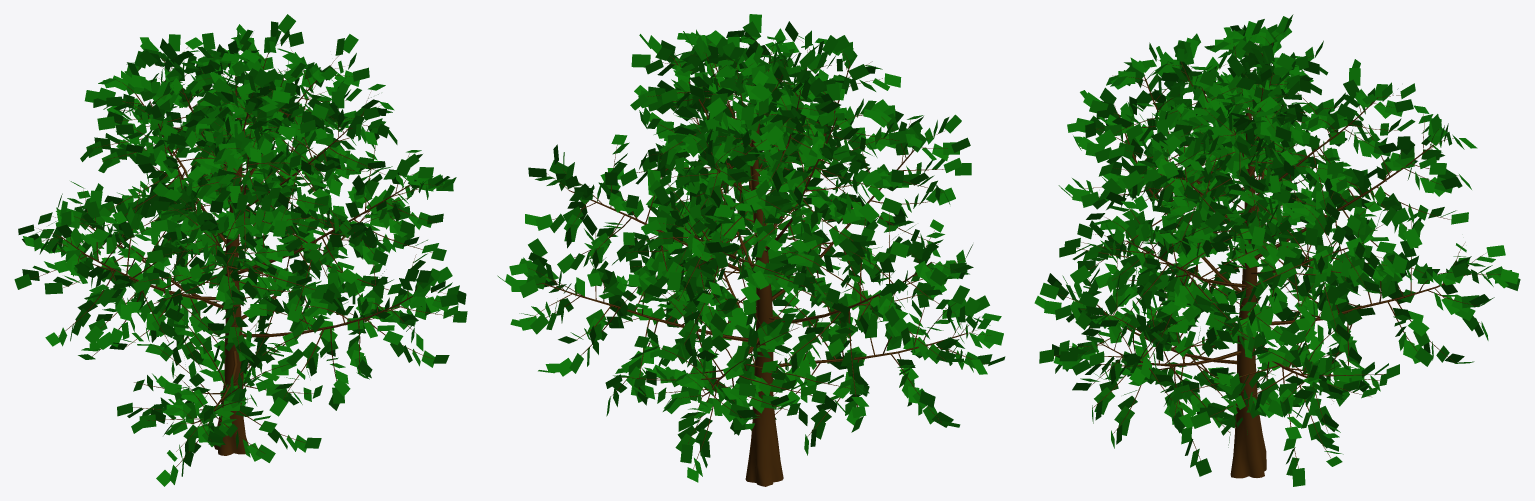
Rendered from Bigger Tree New.FBX.
3 renders of one model, left to right at view 1: azimuth 30°, elevation 25°; view 2: azimuth 150°, elevation 25°; view 3: azimuth 270°, elevation 25°, orthographic. The views are drawn at different scales.
Parts seen in each view (by area): view 1: Foliage001; view 2: Foliage001; view 3: Foliage001.
Part boxes in pixels (<box>): Foliage001: <box>14,14,467,486</box>; Foliage001: <box>497,14,1005,486</box>; Foliage001: <box>1034,14,1520,486</box>.
Size of the model in its own units: 680 by 656 by 651.
